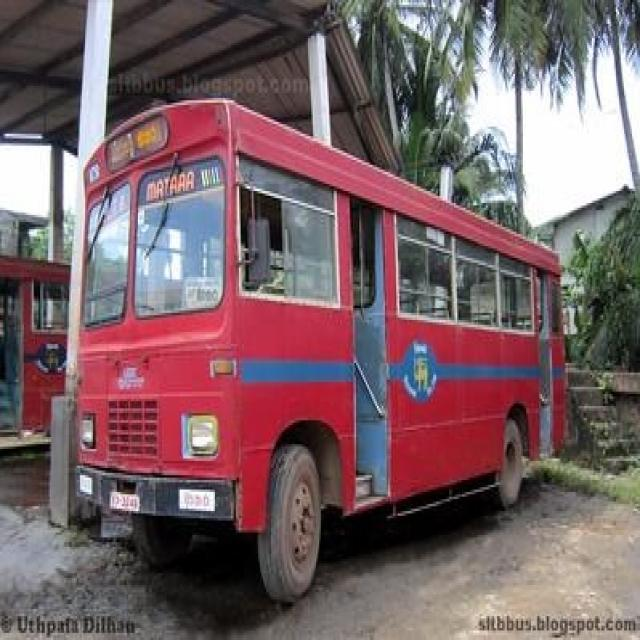Bus: (72, 89, 573, 612)
